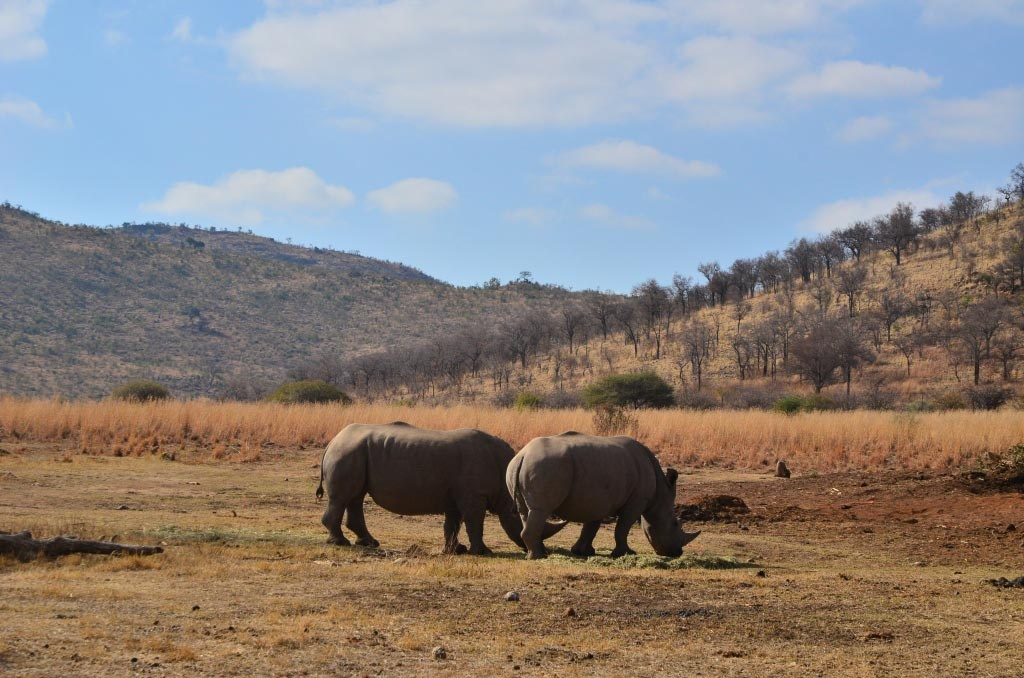rhino: (442, 486, 696, 624), (604, 494, 797, 625)
